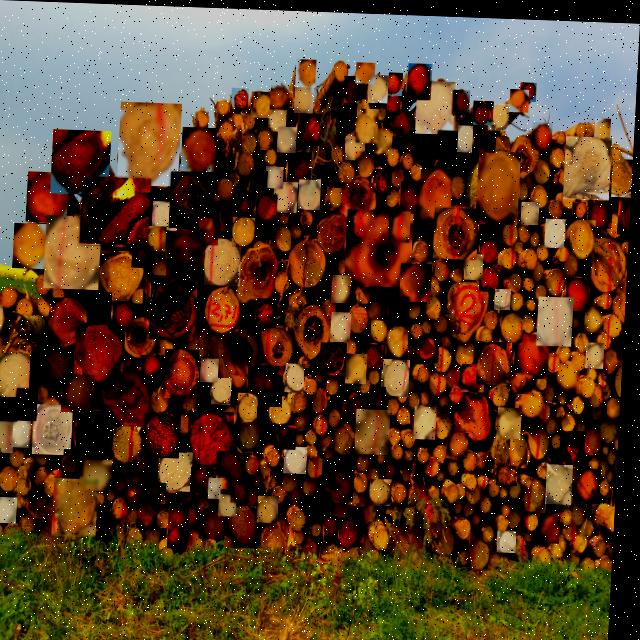wood-log: (119, 101, 183, 185), (347, 208, 416, 284), (82, 176, 153, 246), (46, 215, 104, 289), (53, 129, 113, 194), (478, 147, 523, 221), (152, 274, 201, 339), (565, 132, 613, 197), (78, 322, 129, 382), (105, 366, 156, 426), (57, 478, 104, 537), (191, 410, 239, 467), (171, 170, 217, 227), (101, 249, 148, 303), (435, 204, 481, 256), (417, 77, 459, 131), (28, 171, 71, 222), (37, 404, 78, 455), (456, 389, 498, 437), (51, 297, 89, 350), (169, 227, 207, 277), (80, 410, 118, 459), (540, 292, 577, 342), (207, 236, 245, 284), (167, 347, 203, 397), (421, 165, 455, 216), (148, 412, 186, 457), (207, 284, 244, 330), (359, 406, 395, 452), (517, 329, 553, 374), (16, 223, 51, 269), (182, 126, 218, 170), (480, 337, 516, 381), (0, 353, 35, 398), (251, 363, 288, 405), (230, 503, 266, 546), (326, 455, 360, 499), (40, 344, 76, 385), (342, 180, 378, 221), (162, 450, 198, 490), (65, 373, 99, 412), (402, 260, 435, 299), (85, 457, 118, 490), (571, 215, 598, 255), (551, 460, 578, 500), (385, 356, 414, 393), (220, 451, 248, 488), (173, 503, 195, 547), (408, 60, 434, 97), (564, 426, 590, 463), (323, 340, 351, 374), (581, 463, 606, 499), (590, 190, 615, 224), (569, 273, 594, 307), (347, 390, 374, 421), (613, 154, 634, 193), (523, 387, 549, 418), (275, 179, 300, 211), (501, 403, 526, 435), (503, 308, 527, 341), (91, 291, 115, 324), (357, 106, 380, 140), (204, 507, 230, 537), (273, 391, 298, 422), (289, 150, 313, 182), (242, 418, 265, 451), (418, 403, 441, 436), (299, 111, 322, 144), (154, 200, 180, 229), (388, 323, 412, 354), (300, 177, 324, 208), (20, 388, 42, 421), (313, 489, 337, 519), (234, 216, 258, 246), (402, 178, 424, 210), (344, 515, 368, 544), (465, 360, 489, 389), (349, 351, 371, 382), (391, 208, 413, 239), (288, 444, 312, 472), (0, 418, 19, 453), (514, 429, 533, 464), (391, 293, 413, 323), (476, 119, 498, 149), (334, 309, 355, 340), (545, 508, 566, 539), (374, 475, 397, 503), (547, 214, 568, 244), (145, 354, 170, 379), (368, 72, 390, 100), (482, 260, 504, 288), (257, 192, 279, 220), (262, 493, 284, 521), (562, 359, 584, 387), (215, 376, 236, 405), (242, 391, 263, 420), (260, 296, 281, 325), (195, 466, 218, 492), (0, 497, 23, 523), (252, 89, 274, 116), (296, 57, 317, 85), (200, 216, 221, 244), (533, 118, 554, 146), (289, 361, 309, 390), (439, 127, 459, 156), (392, 108, 415, 133), (451, 429, 473, 455), (490, 99, 510, 127), (334, 273, 354, 301), (68, 449, 89, 475), (367, 341, 388, 367), (422, 333, 443, 359), (278, 124, 298, 151), (223, 202, 242, 230), (344, 73, 363, 101), (17, 420, 36, 448), (279, 423, 301, 447), (271, 83, 292, 108), (148, 225, 169, 250), (346, 133, 367, 158), (466, 250, 486, 276), (295, 85, 315, 111), (374, 125, 394, 151), (588, 301, 607, 328), (134, 244, 156, 267), (514, 368, 537, 390), (474, 97, 495, 121), (116, 300, 136, 325), (356, 149, 376, 174), (483, 234, 502, 260), (375, 166, 394, 192), (589, 338, 608, 364), (619, 195, 633, 230), (144, 499, 162, 526), (216, 176, 236, 200), (204, 356, 223, 381), (251, 169, 269, 195), (501, 461, 523, 482), (502, 526, 522, 549), (510, 85, 530, 108), (458, 122, 475, 149), (269, 106, 288, 130), (318, 163, 337, 187), (523, 197, 542, 221), (4, 397, 23, 421), (455, 86, 472, 112), (356, 59, 376, 81), (224, 492, 243, 515), (267, 164, 286, 186), (595, 114, 612, 138), (329, 513, 344, 540), (236, 480, 255, 501), (154, 481, 172, 503), (232, 86, 250, 108), (328, 185, 345, 208), (373, 383, 390, 405), (239, 189, 254, 213), (389, 69, 404, 93), (374, 317, 391, 338), (497, 285, 514, 306), (521, 78, 538, 98), (0, 448, 6, 504), (611, 393, 625, 415), (214, 476, 228, 497), (262, 126, 275, 148), (574, 197, 590, 214), (388, 93, 402, 112), (0, 304, 7, 334), (0, 379, 2, 425)
